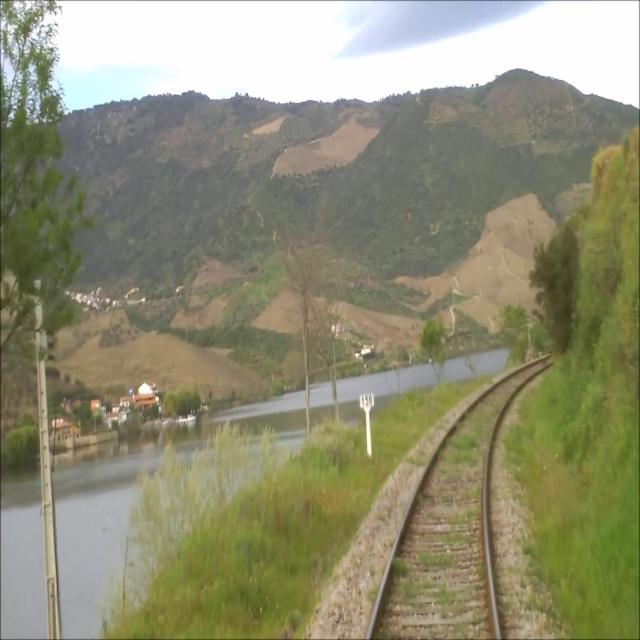rail-track: (369, 356, 553, 639)
